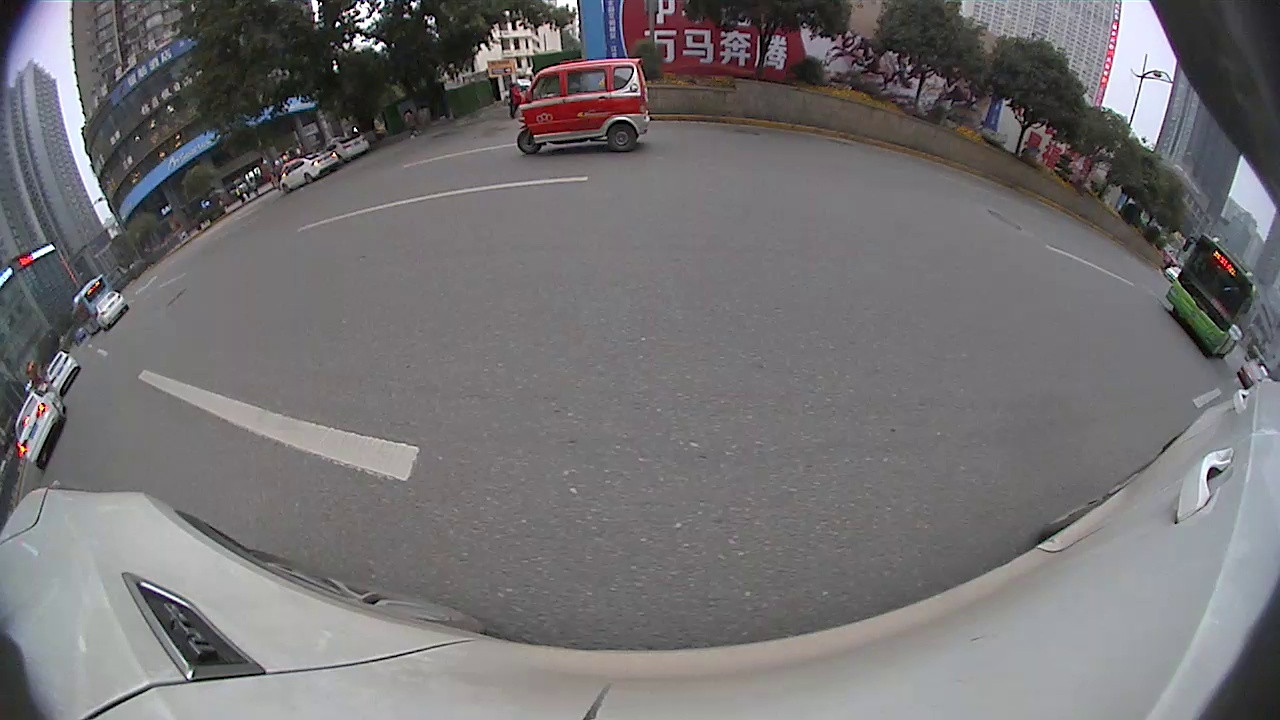bus: (1163, 232, 1256, 359), (69, 272, 112, 337)
car: (10, 389, 68, 468), (277, 149, 341, 196), (93, 289, 130, 330), (43, 352, 80, 390), (326, 130, 374, 157), (1237, 360, 1266, 392)
front: (514, 128, 544, 157)
rear: (603, 125, 638, 154)
rider: (514, 55, 650, 156)
